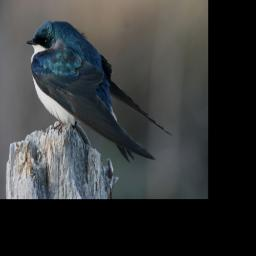Swallow: (27, 20, 173, 163)
